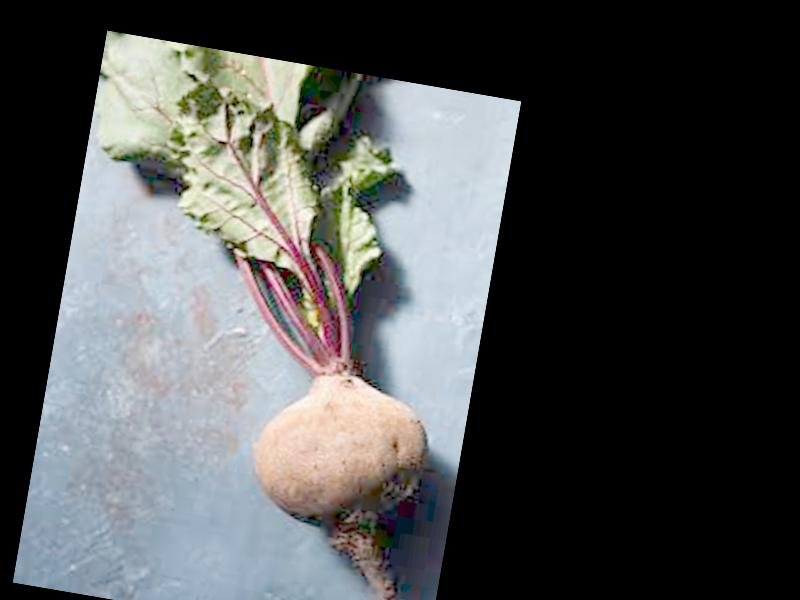Beet: (15, 30, 494, 600)
